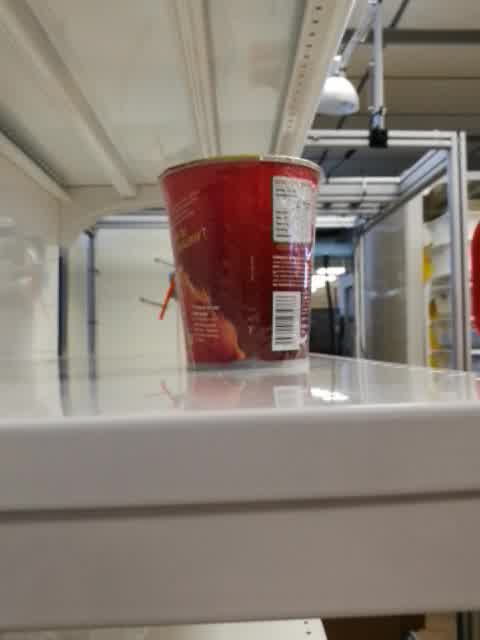maggi: (157, 152, 324, 380)
